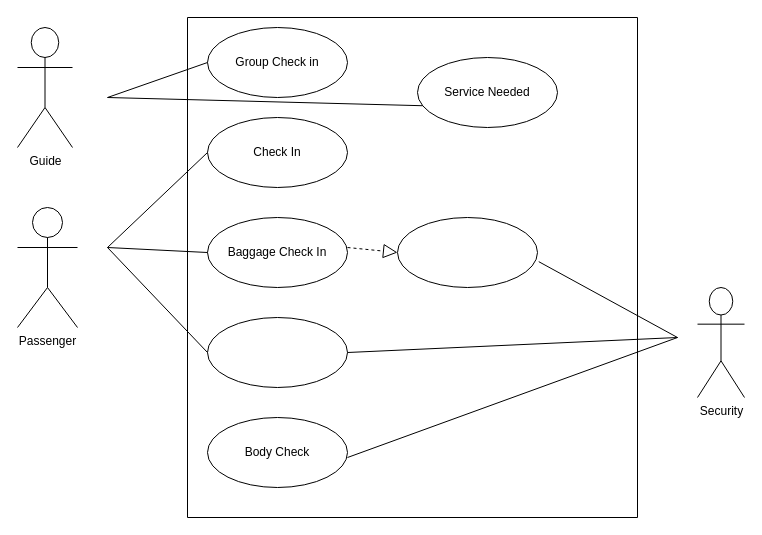
This 762x535 diagram has some shape labels left out. Here are the shapes that lost their labels. From the top down, the centre of each, then its label:
the point at 467,252: Baggage Handelling
the point at 277,352: Security Check
